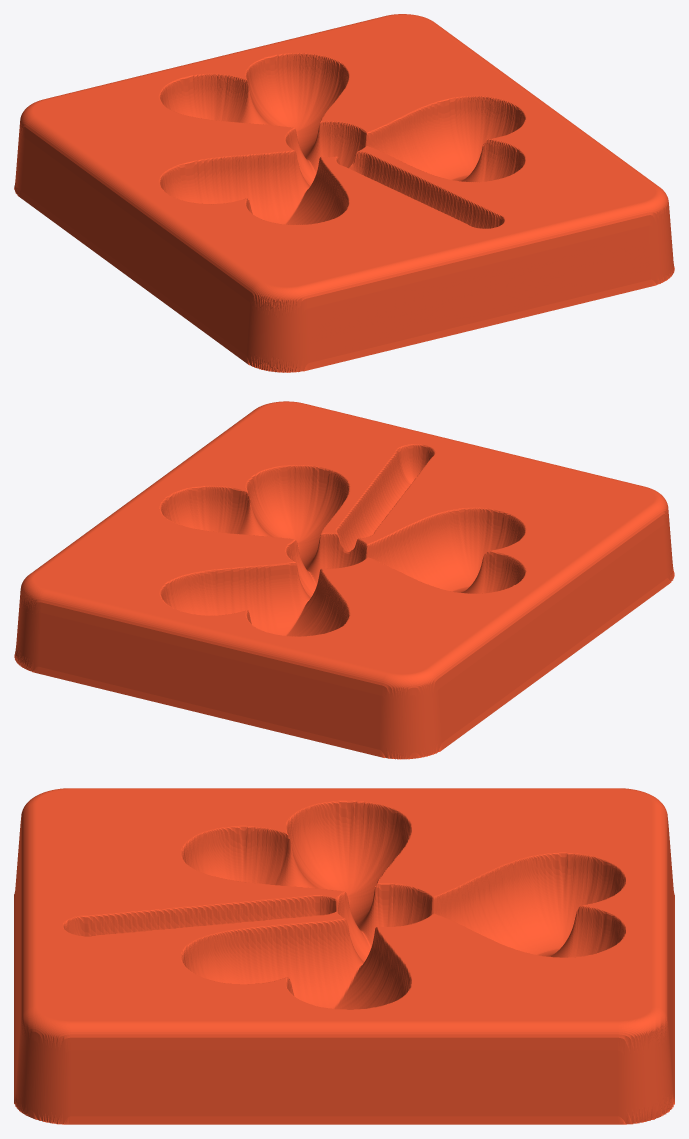
Rendered from mold.glb.
3 renders of one model, top to bottom at view 1: azimuth 30°, elevation 25°; view 2: azimuth 150°, elevation 25°; view 3: azimuth 270°, elevation 25°, orthographic. The views are drawn at different scales.
Visible parts, largest first — view 1: geometry_0; view 2: geometry_0; view 3: geometry_0.
Boxes of the visible parts, x1,y1,x2,y2 form: geometry_0: (14,14,674,372); geometry_0: (14,401,674,759); geometry_0: (14,788,674,1124).
Size of the model in its own units: 0.0942 by 0.0165 by 0.105.
